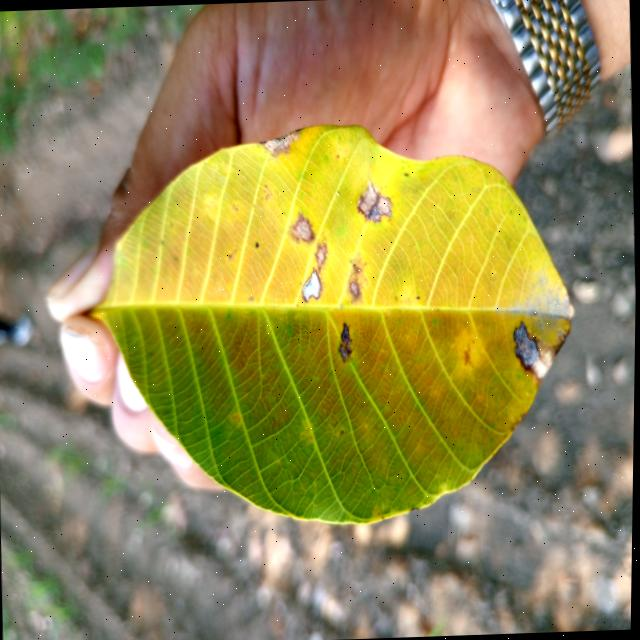Colletotrichum: (255, 241, 259, 248)
Leaf-Blight: (302, 270, 321, 300)
